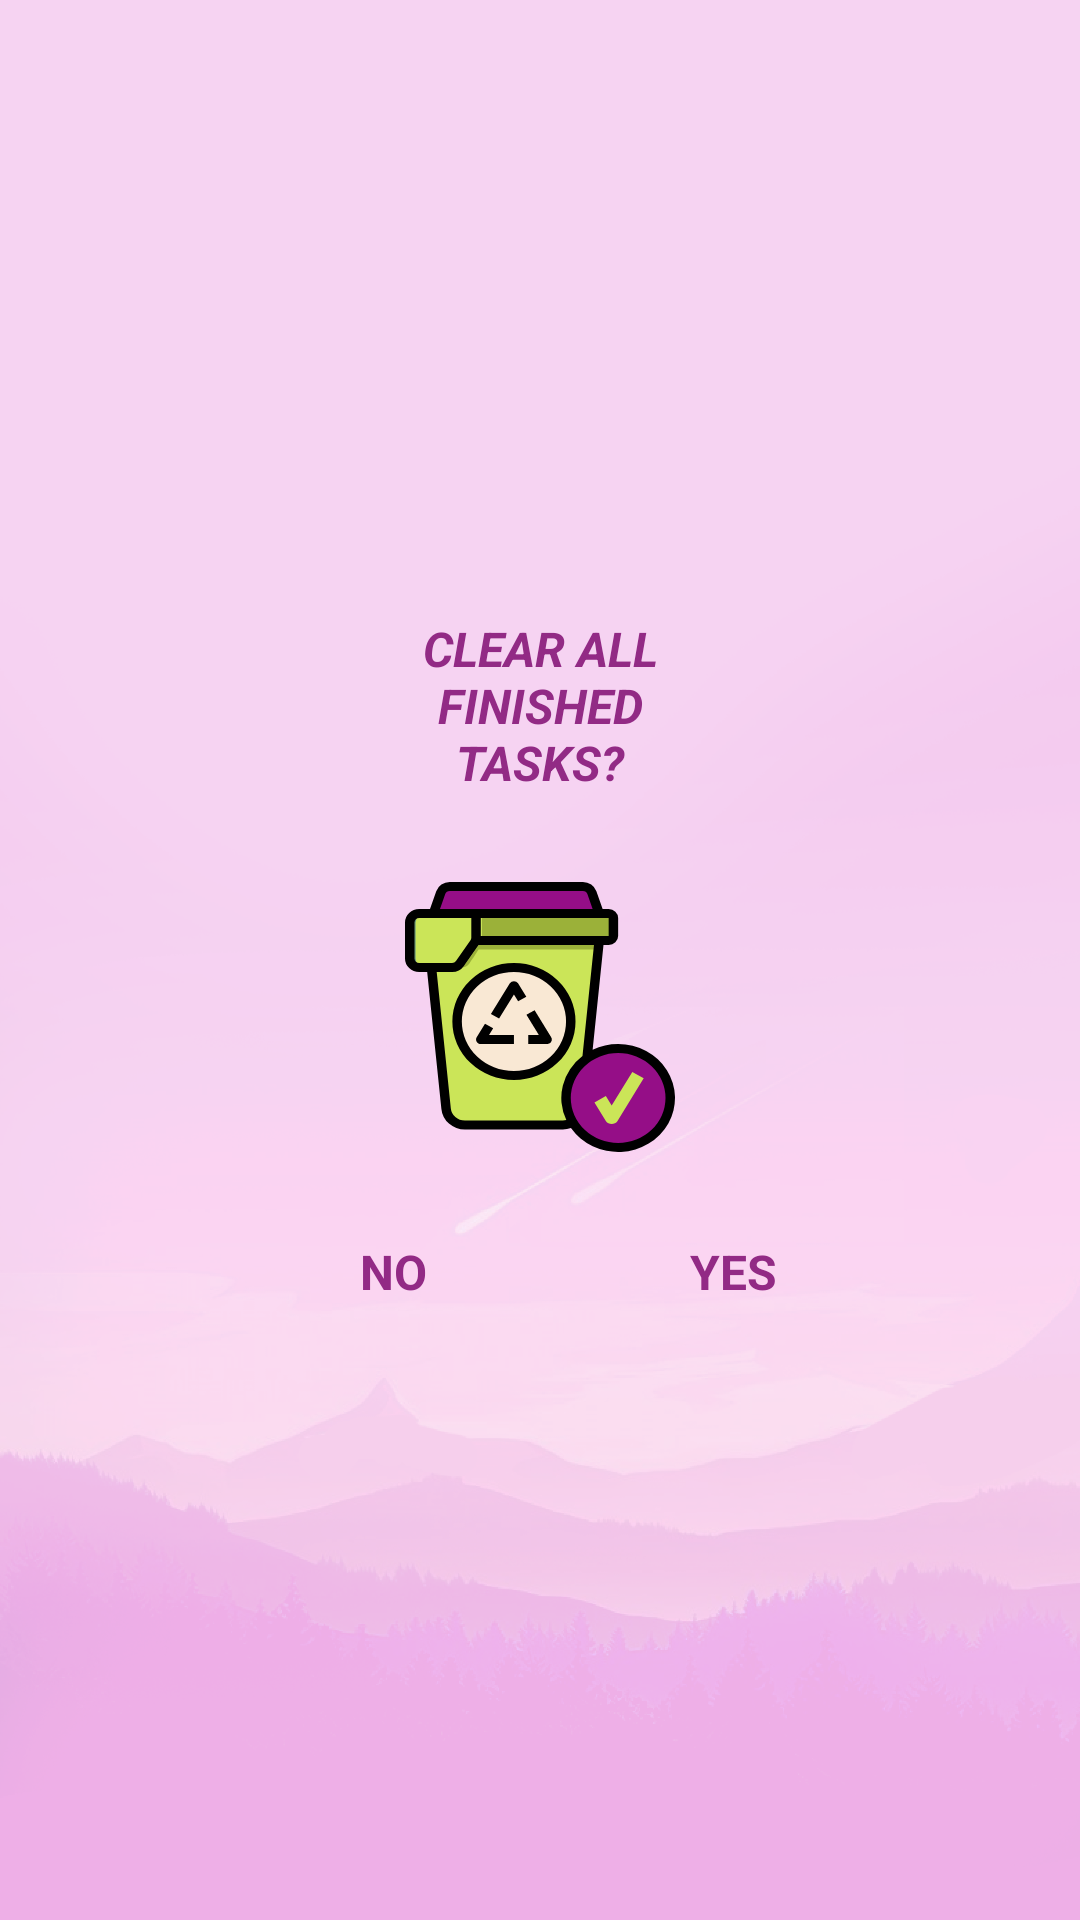

Where to tap for icons on this 1080px x 1920px app screen, as point (x, y):
trash: point (540, 1017)
